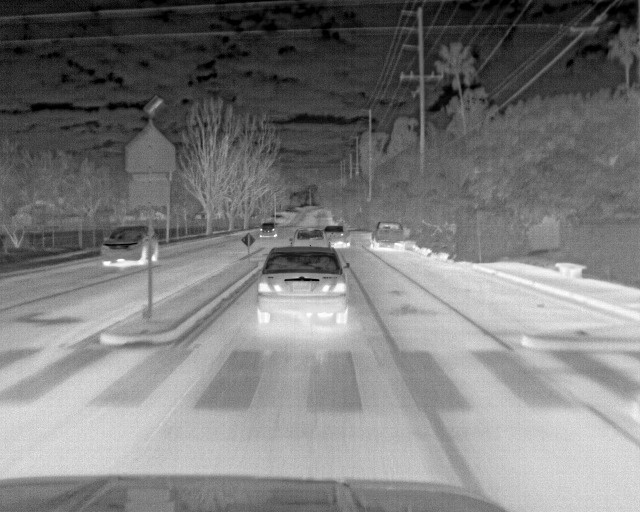vehicle: (258, 245, 347, 332), (99, 224, 163, 268), (371, 224, 406, 245), (319, 223, 346, 247), (260, 223, 278, 238)
